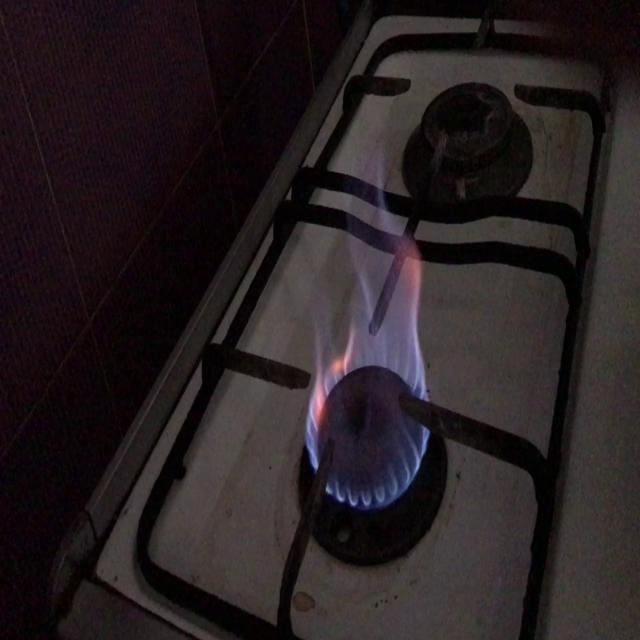fire: (297, 230, 434, 506)
